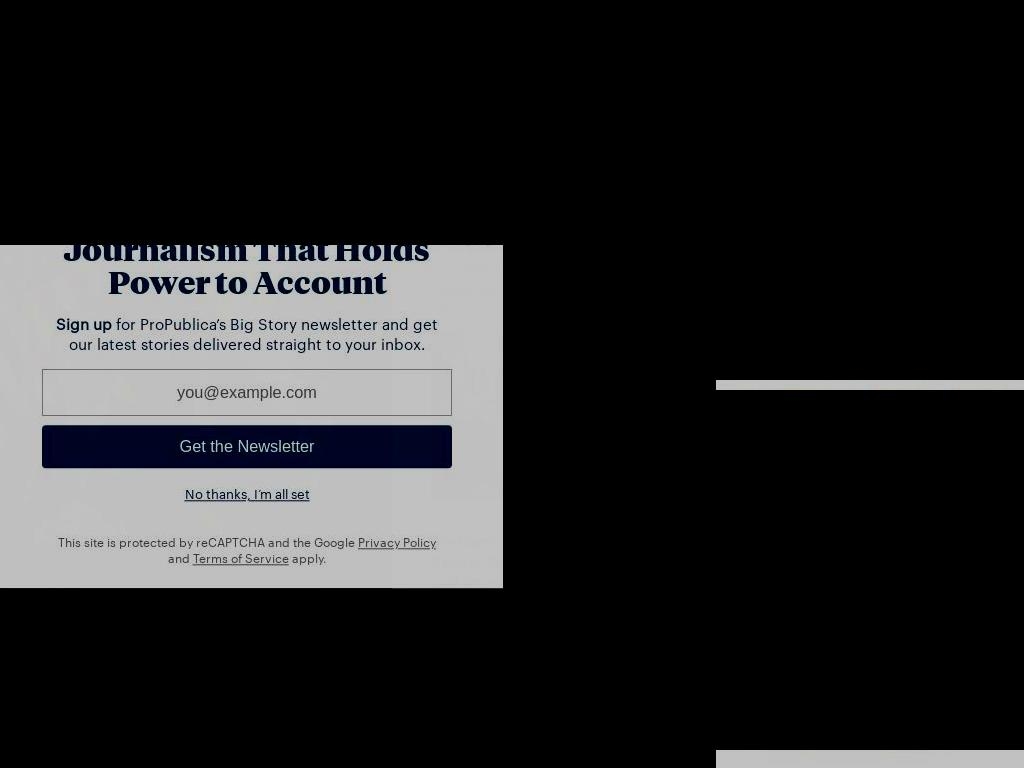button: (0, 245, 392, 596), (716, 0, 1024, 245), (431, 329, 685, 499), (431, 529, 685, 656), (431, 685, 685, 768), (431, 245, 685, 256)
heading: (0, 607, 301, 760), (716, 624, 1024, 725), (431, 529, 610, 656), (431, 685, 618, 768), (431, 245, 685, 256)
iframe: (0, 245, 716, 768), (716, 245, 1024, 380)
image: (0, 245, 392, 596), (115, 52, 716, 245), (716, 390, 1024, 750), (126, 59, 716, 245), (716, 0, 1024, 245), (431, 329, 685, 499), (635, 685, 685, 735), (624, 544, 670, 590)
text: (431, 255, 685, 319), (716, 749, 1024, 768)
